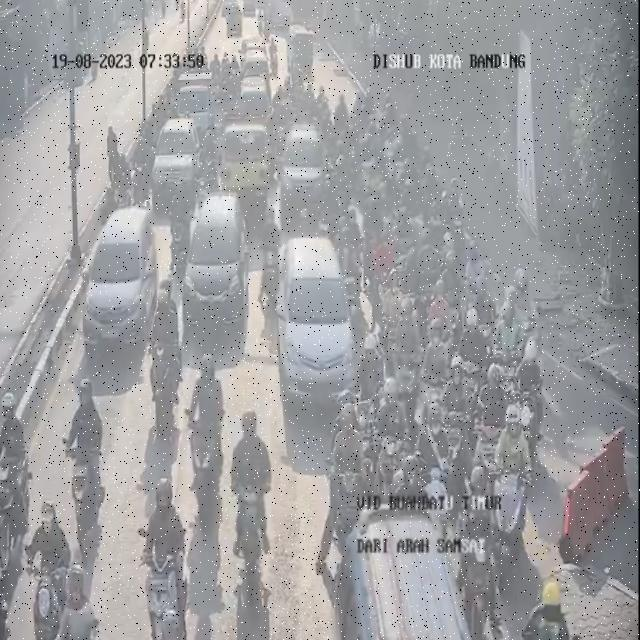bunch of motorcycle: (339, 110, 433, 263), (212, 58, 239, 118), (276, 86, 314, 120)
cars: (280, 232, 360, 401), (89, 206, 159, 346), (179, 190, 244, 332), (278, 124, 326, 219), (222, 119, 273, 196), (155, 115, 201, 191), (178, 83, 212, 149), (284, 26, 314, 84)
motorcycle: (65, 380, 114, 544), (141, 478, 190, 640), (183, 351, 229, 509), (233, 414, 274, 580), (456, 486, 498, 638), (35, 499, 78, 636), (328, 387, 366, 539), (498, 403, 538, 537), (504, 258, 542, 366), (356, 331, 386, 462), (471, 364, 504, 477), (418, 316, 448, 438), (522, 576, 579, 640), (0, 387, 29, 510), (150, 290, 182, 399), (441, 356, 469, 474), (390, 300, 420, 409), (378, 378, 409, 474), (258, 194, 284, 300), (456, 306, 489, 385), (437, 252, 468, 332), (57, 606, 117, 640), (385, 268, 406, 345), (466, 240, 489, 310), (447, 176, 466, 256), (401, 246, 420, 313), (346, 208, 362, 284), (335, 88, 350, 144), (317, 82, 332, 136), (398, 204, 412, 260), (305, 80, 318, 124)
truck: (342, 493, 481, 637)
